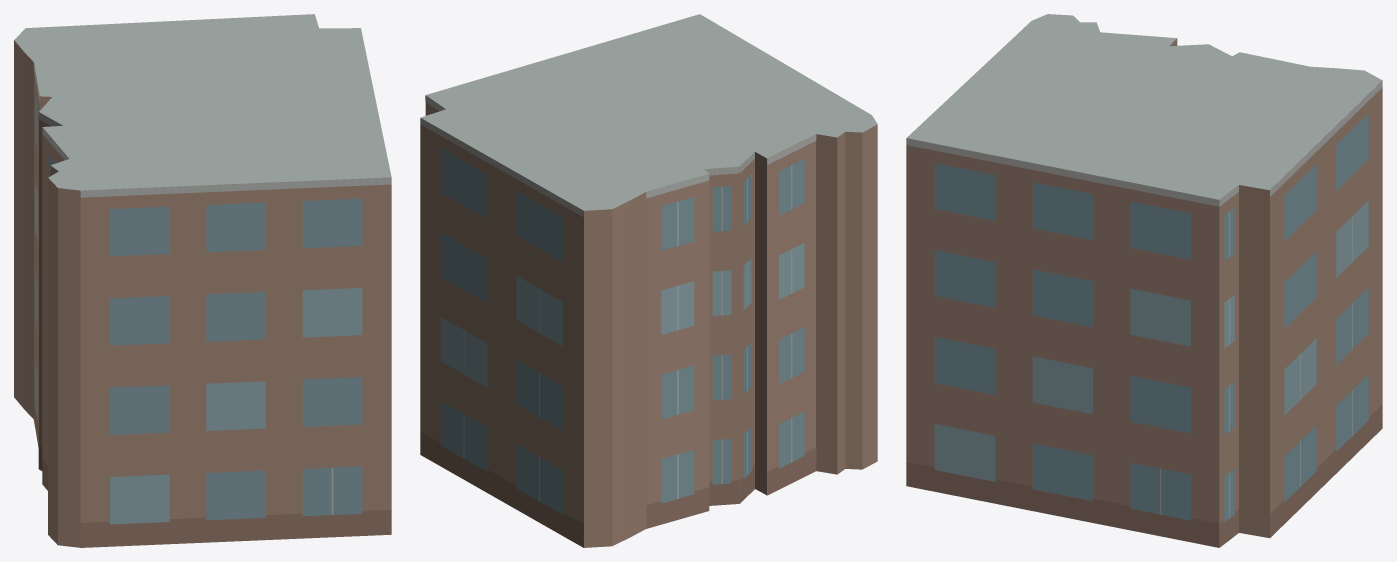
Rendered from survey-upis-32934245.glb.
3 renders of one model, left to right at view 1: azimuth 30°, elevation 25°; view 2: azimuth 150°, elevation 25°; view 3: azimuth 270°, elevation 25°, orthographic. The views are drawn at different scales.
Parts seen in each view (by area): view 1: survey-upis-32934245.tmp; view 2: survey-upis-32934245.tmp; view 3: survey-upis-32934245.tmp.
Boxes of the visible parts, x1,y1,x2,y2 form: survey-upis-32934245.tmp: (14,14,391,547); survey-upis-32934245.tmp: (420,14,877,547); survey-upis-32934245.tmp: (906,14,1382,547).
Bounding box in the file's own units: 14.1 × 12.3 × 15.26.
